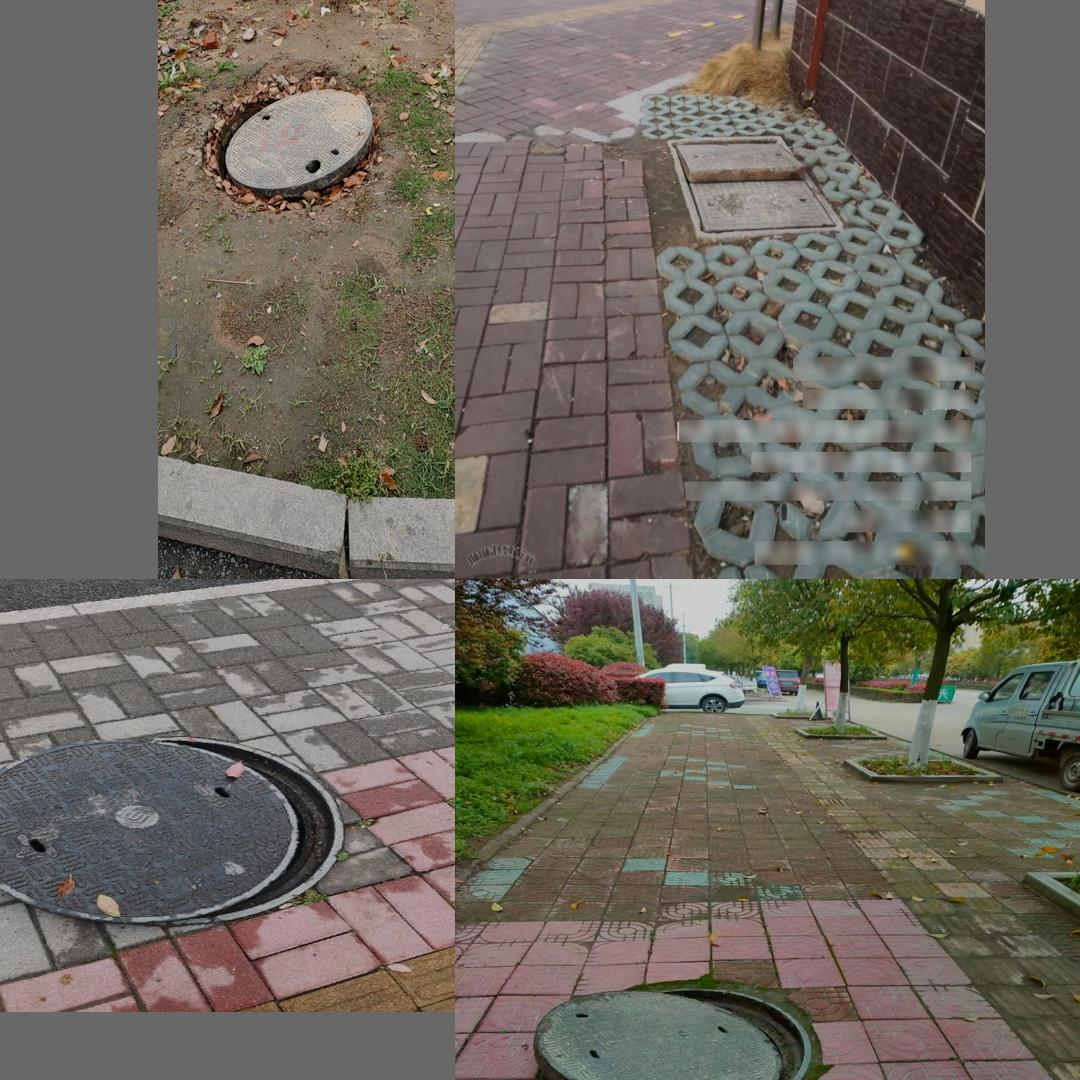uncovered: (0, 740, 358, 925), (530, 987, 812, 1080), (205, 87, 377, 201), (661, 104, 822, 188)
